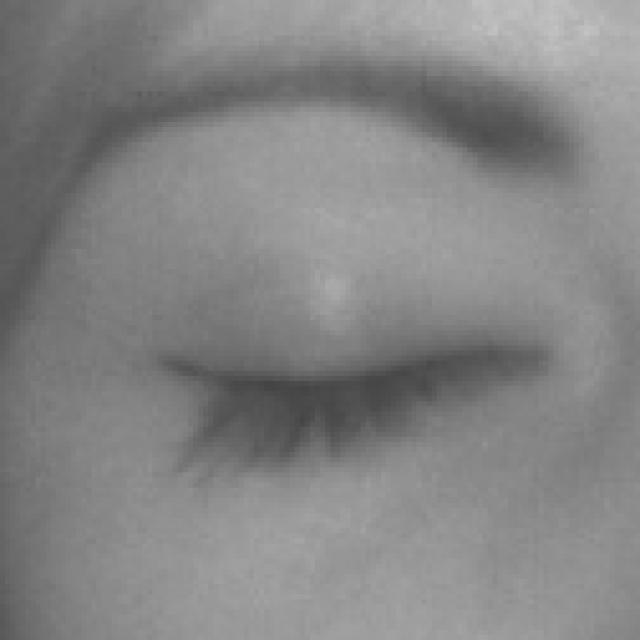Eyeclosed: (146, 214, 547, 557)
